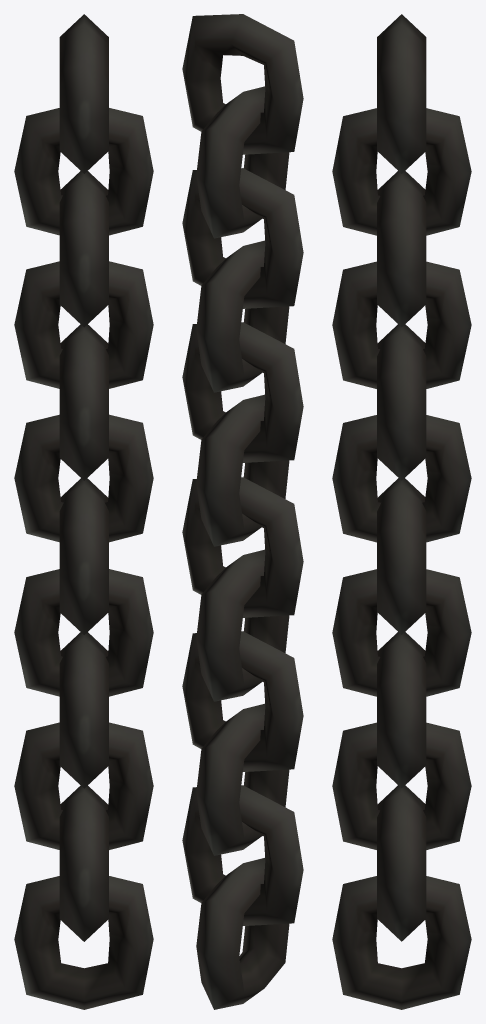
Rendered from Dg_01_chain_001.FBX.
3 renders of one model, left to right at view 1: azimuth 90°, elevation 25°; view 2: azimuth 150°, elevation 25°; view 3: azimuth 270°, elevation 25°, orthographic.
Parts seen in each view (by area): view 1: Dg_01_chain_001; view 2: Dg_01_chain_001; view 3: Dg_01_chain_001.
Part boxes in pixels (x1,y1,x2,y2): Dg_01_chain_001: (14,14,153,1009); Dg_01_chain_001: (182,14,303,1009); Dg_01_chain_001: (332,14,471,1009).
Size of the model in its own units: 0.4514 by 3.52 by 0.4514.
